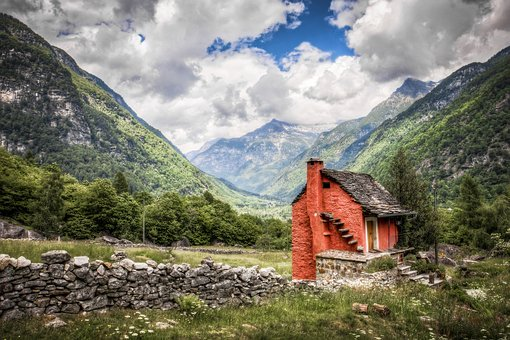house: (282, 150, 409, 313)
mountain: (7, 34, 502, 339)
sky: (44, 7, 510, 147)
